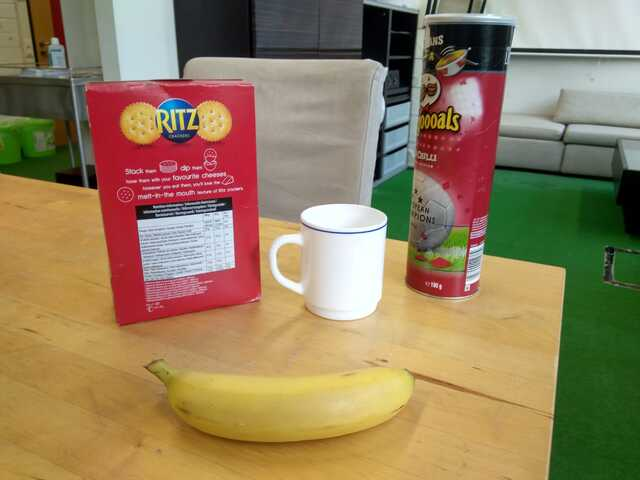001_chips_can: (403, 12, 520, 303)
003_cracker_box: (81, 76, 268, 329)
011_banana: (137, 356, 424, 447)
025_mug: (269, 200, 393, 325)
